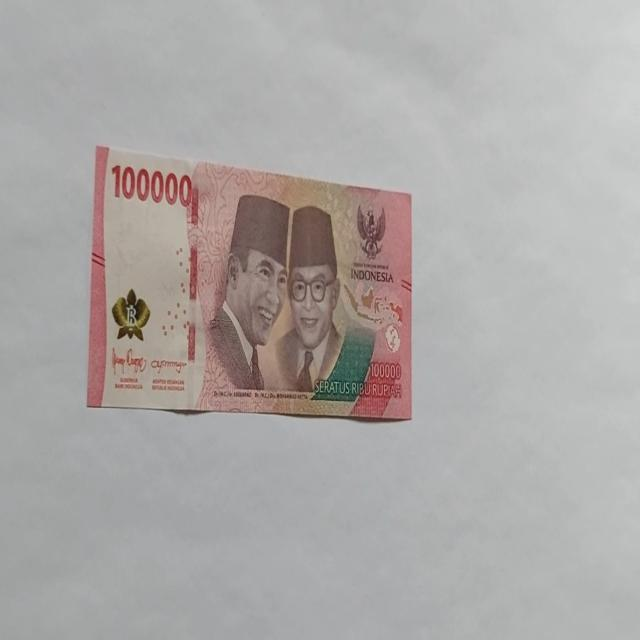seratus ribu rupiah: (86, 143, 414, 421), (196, 192, 290, 407)
